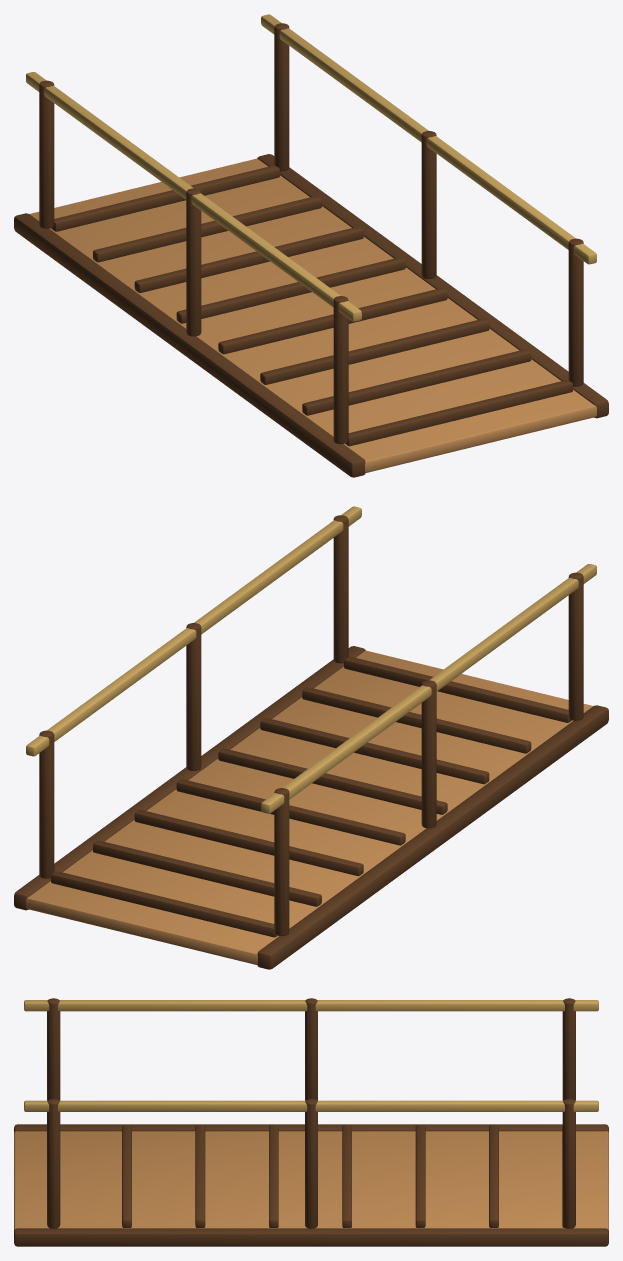
Rendered from Gangway.glb.
3 renders of one model, top to bottom at view 1: azimuth 30°, elevation 25°; view 2: azimuth 150°, elevation 25°; view 3: azimuth 270°, elevation 25°, orthographic. The views are drawn at different scales.
Visible parts, largest first — view 1: Gangway; view 2: Gangway; view 3: Gangway.
Part boxes in pixels (x1,y1,x2,y2): Gangway: (14, 14, 608, 477); Gangway: (14, 506, 608, 969); Gangway: (14, 998, 608, 1246).
Bounding box in the file's own units: 1.32 × 0.79 × 3.
